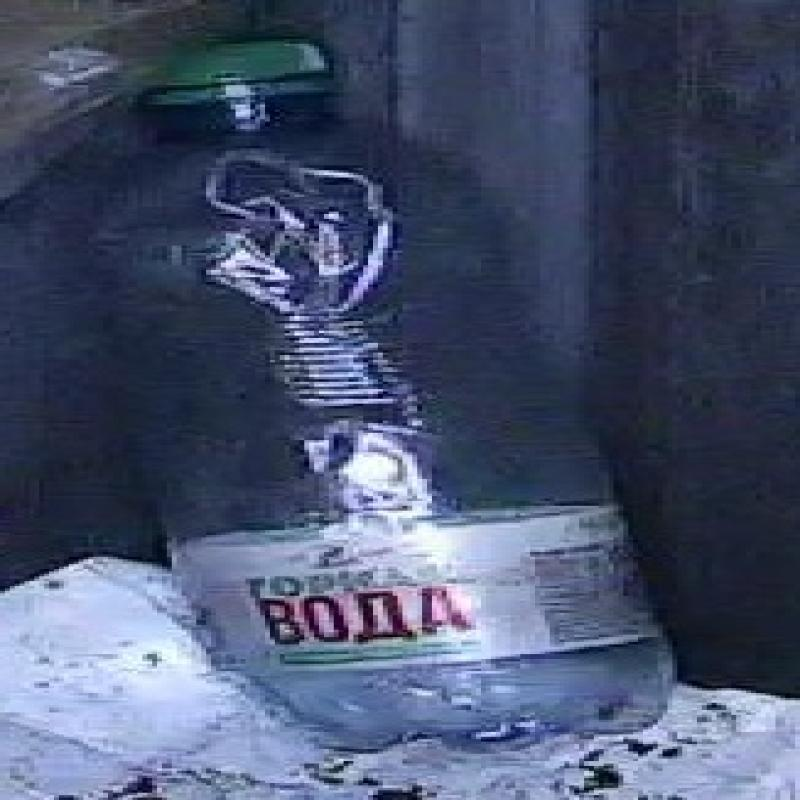botella: (65, 44, 678, 733)
